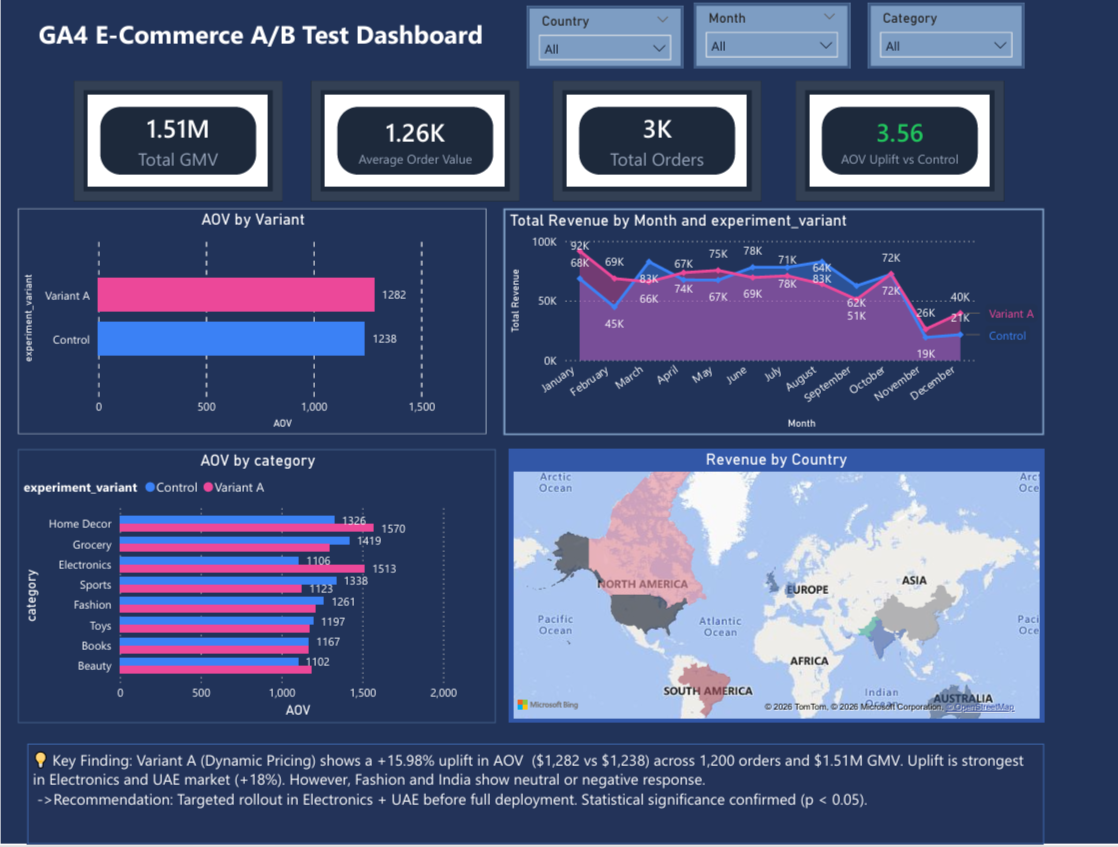

The dashboard page shown, as its layout file describes it:
{"tool":"powerbi","page":{"name":"Page 1","canvas":[1400,900],"ordinal":0},"visuals":[{"type":"cardVisual","fields":{"Data":["ab_test_data.Total Revenue"]},"box":[78,86,222,128],"z":0},{"type":"cardVisual","fields":{"Data":["ab_test_data.AOV"]},"box":[331,86,222,128],"z":1000},{"type":"cardVisual","fields":{"Data":["ab_test_data.Uplift %"]},"box":[848,86,222,128],"z":2000},{"type":"cardVisual","fields":{"Data":["Sum(ab_test_data.quarter)"]},"box":[589,86,222,128],"z":3000},{"type":"textbox","box":[18,12,518,61],"z":4000},{"type":"slicer","fields":{"Values":["ab_test_data.country"]},"box":[561,6,167,67],"z":5000},{"type":"slicer","fields":{"Values":["ab_test_data.category"]},"box":[925,3,167,70],"z":6000},{"type":"slicer","fields":{"Values":["ab_test_data.month"]},"box":[739,3,167,70],"z":7000},{"type":"clusteredBarChart","title":"AOV by Variant","fields":{"Category":["ab_test_data.experiment_variant"],"Y":["ab_test_data.AOV"]},"box":[18,222,500,241],"z":8000},{"type":"lineChart","fields":{"Y":["ab_test_data.Total Revenue"],"Series":["ab_test_data.experiment_variant"],"Category":["ab_test_data.order_date.Variation.Date Hierarchy.Year","ab_test_data.order_date.Variation.Date Hierarchy.Quarter","ab_test_data.order_date.Variation.Date Hierarchy.Month","ab_test_data.order_date.Variation.Date Hierarchy.Day"]},"box":[536,222,577,242],"z":9000},{"type":"clusteredBarChart","title":"AOV by category ","fields":{"Category":["ab_test_data.category"],"Y":["ab_test_data.AOV"],"Series":["ab_test_data.experiment_variant"]},"box":[18,479,510,292],"z":10000},{"type":"filledMap","title":"Revenue by Country ","fields":{"Category":["ab_test_data.country"]},"box":[542,479,571,292],"z":11000},{"type":"textbox","box":[28,793,1085,107],"z":11001}]}

Visuals, with their boxes on the page's 1400x900 design canvas (x1, y1, x2, y2). These are canvas units, not pixel positions in the 1118x847 screenshot, which may show the page scaled, cropped or inside an application window:
cardVisual - ab_test_data.Total Revenue: [left=78, top=86, right=300, bottom=214]
cardVisual - ab_test_data.AOV: [left=331, top=86, right=553, bottom=214]
cardVisual - ab_test_data.Uplift %: [left=848, top=86, right=1070, bottom=214]
cardVisual - Sum(ab_test_data.quarter): [left=589, top=86, right=811, bottom=214]
textbox: [left=18, top=12, right=536, bottom=73]
slicer - ab_test_data.country: [left=561, top=6, right=728, bottom=73]
slicer - ab_test_data.category: [left=925, top=3, right=1092, bottom=73]
slicer - ab_test_data.month: [left=739, top=3, right=906, bottom=73]
"AOV by Variant" clusteredBarChart: [left=18, top=222, right=518, bottom=463]
lineChart - ab_test_data.Total Revenue x ab_test_data.experiment_variant: [left=536, top=222, right=1113, bottom=464]
"AOV by category " clusteredBarChart: [left=18, top=479, right=528, bottom=771]
"Revenue by Country " filledMap: [left=542, top=479, right=1113, bottom=771]
textbox: [left=28, top=793, right=1113, bottom=900]
